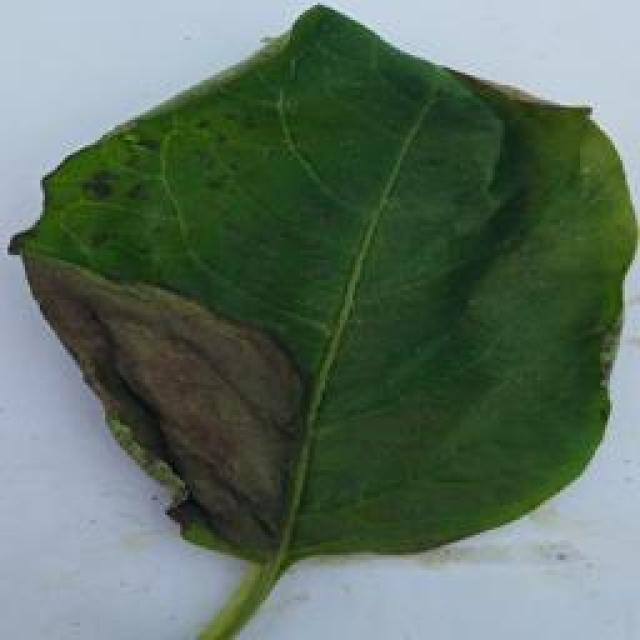Potato_Late_Blight: (7, 10, 639, 634)
